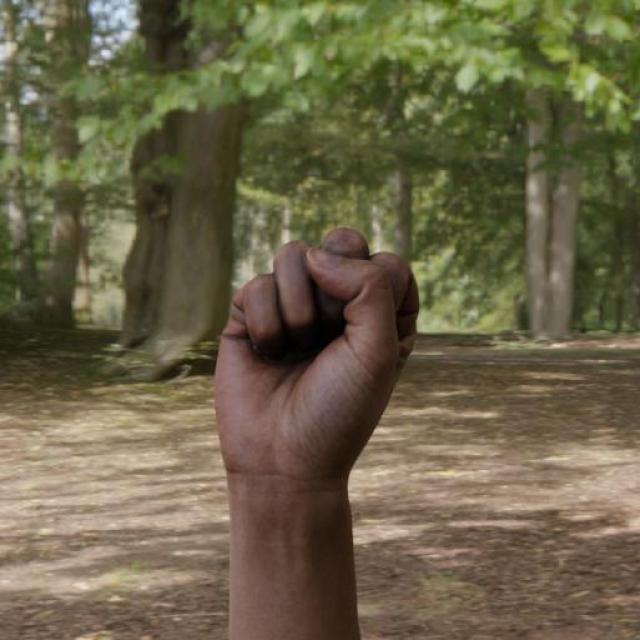S: (210, 226, 425, 488)
